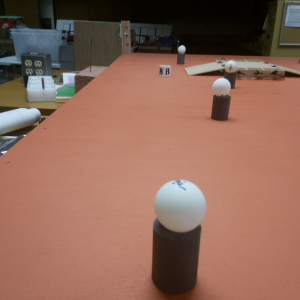blockB: (158, 64, 172, 77)
corner: (119, 18, 133, 53)
obstacle: (148, 178, 209, 288), (212, 78, 231, 121), (176, 45, 187, 65), (224, 61, 236, 78)
side: (237, 67, 285, 82)
slope: (187, 66, 222, 76)
